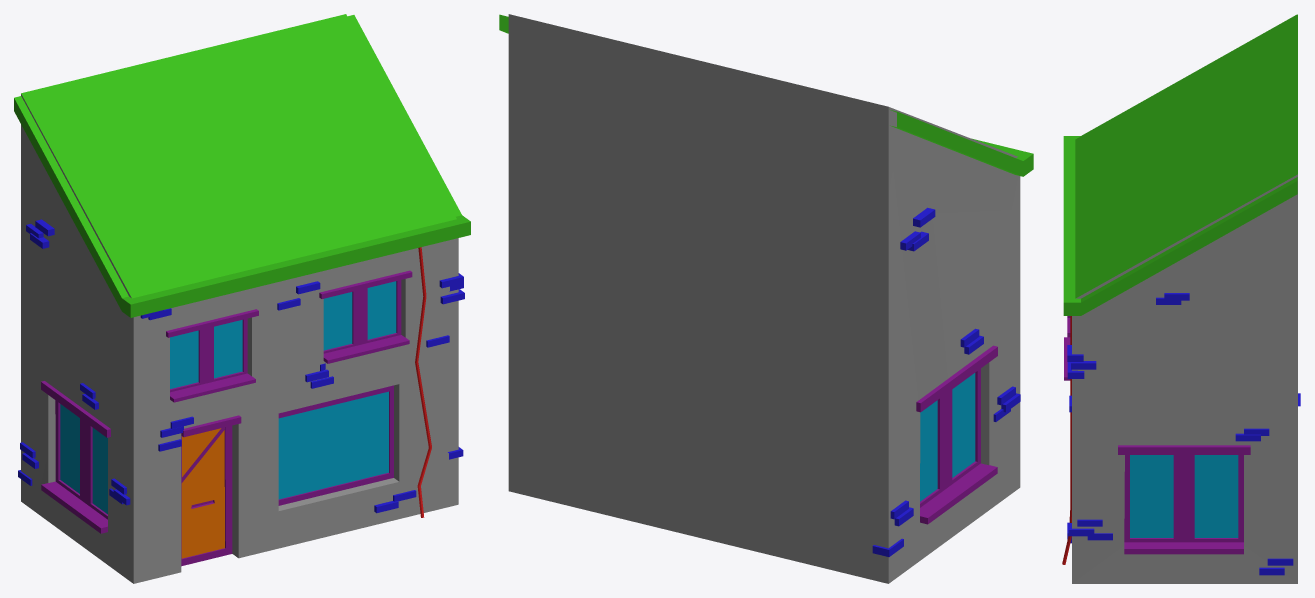
The model's file is Huis2_Export.FBX.
3 renders of one model, left to right at view 1: azimuth 30°, elevation 25°; view 2: azimuth 150°, elevation 25°; view 3: azimuth 270°, elevation 25°, orthographic. The views are drawn at different scales.
Parts seen in each view (by area): view 1: Huis2; view 2: Huis2; view 3: Huis2.
Boxes of the visible parts, x1,y1,x2,y2 form: Huis2: [14, 14, 470, 583]; Huis2: [499, 14, 1033, 583]; Huis2: [1062, 14, 1300, 583].
Bounding box in the file's own units: 523 × 600 × 316.
